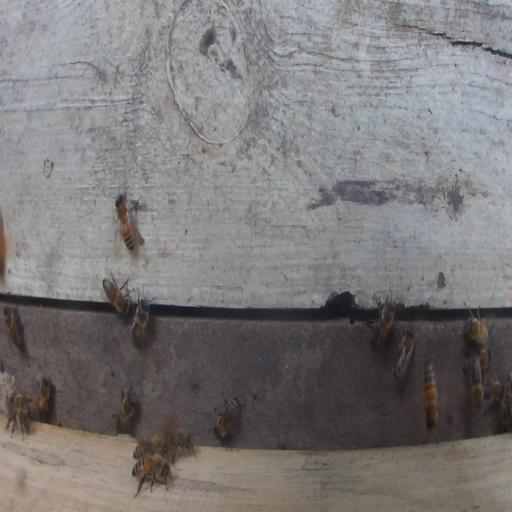bee: (132, 454, 172, 498), (371, 297, 395, 354), (213, 391, 241, 439), (101, 272, 132, 315), (111, 384, 137, 434), (392, 325, 415, 381), (423, 357, 439, 432), (114, 193, 134, 251), (130, 292, 151, 347), (164, 425, 196, 460), (3, 304, 25, 351), (133, 435, 165, 459), (471, 356, 483, 413), (36, 375, 51, 420), (467, 317, 489, 346), (483, 379, 504, 408), (10, 406, 29, 431), (14, 393, 31, 418), (478, 346, 491, 373)
